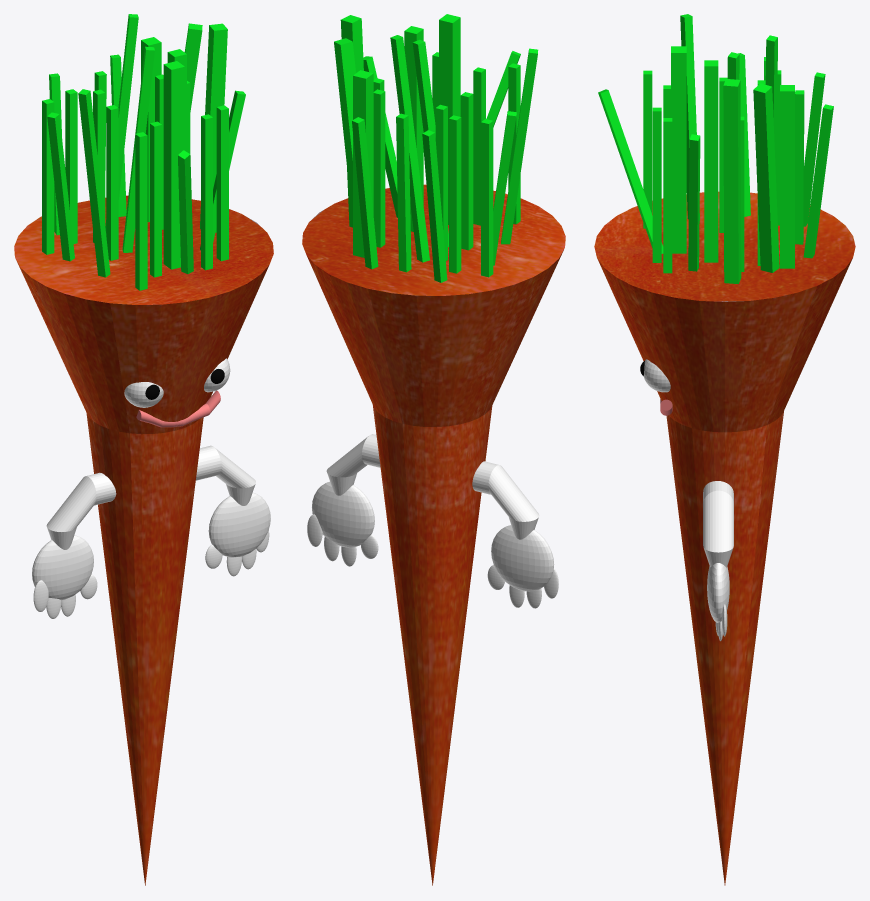
The model's file is marchewLV2_main.obj.
3 views of the same model, side by side, from view 1: azimuth 30°, elevation 25°; view 2: azimuth 150°, elevation 25°; view 3: azimuth 270°, elevation 25° (orthographic).
Visible parts, largest first — view 1: Cone, Cylinder.002, Cylinder.001, Cube.011_Cube.012, Cube.009_Cube.010, Cube.017_Cube.018, Cube.005_Cube.006, Cube.019_Cube.020, Cube.010_Cube.011, Cube_Cube.001, Cube.008_Cube.009, Cube.007_Cube.008 (+14 smaller); view 2: Cone, Cylinder.002, Cylinder.001, Cube.014_Cube.015, Cube.003_Cube.004, Cube.011_Cube.012, Cube.002_Cube.003, Cube.010_Cube.011, Cube.022_Cube.023, Cube.001_Cube.002, Cube.009_Cube.010, Cube.016_Cube.017 (+12 smaller); view 3: Cone, Cylinder.001, Cube.004_Cube.005, Cube.005_Cube.006, Cube.011_Cube.012, Cube.012_Cube.013, Cube.003_Cube.004, Cube.018_Cube.019, Cube.021_Cube.022, Cube.006_Cube.007, Cube.019_Cube.020, Cube.007_Cube.008 (+10 smaller).
Boxes of the visible parts, box(x1,y1,x2,y2) form: Cone: box(14, 195, 273, 885); Cylinder.002: box(32, 472, 116, 618); Cylinder.001: box(196, 445, 270, 576); Cube.011_Cube.012: box(163, 61, 184, 269); Cube.009_Cube.010: box(78, 89, 110, 277); Cube.017_Cube.018: box(135, 132, 147, 290); Cube.005_Cube.006: box(200, 23, 227, 232); Cube.019_Cube.020: box(216, 105, 228, 261); Cube.010_Cube.011: box(106, 105, 118, 260); Cube_Cube.001: box(47, 112, 74, 261); Cube.008_Cube.009: box(150, 121, 161, 277); Cube.007_Cube.008: box(201, 114, 212, 270); Cone: box(302, 184, 565, 885); Cylinder.002: box(472, 461, 558, 608); Cylinder.001: box(307, 434, 380, 566); Cube.014_Cube.015: box(390, 35, 429, 262); Cube.003_Cube.004: box(353, 70, 373, 257); Cube.011_Cube.012: box(439, 14, 460, 224); Cube.002_Cube.003: box(396, 113, 411, 272); Cube.010_Cube.011: box(460, 92, 473, 250); Cube.022_Cube.023: box(422, 130, 447, 282); Cube.001_Cube.002: box(449, 115, 461, 273); Cube.009_Cube.010: box(501, 48, 538, 244); Cube.016_Cube.017: box(481, 119, 493, 277); Cone: box(594, 191, 855, 885); Cylinder.001: box(703, 481, 733, 641); Cube.004_Cube.005: box(753, 83, 779, 272); Cube.005_Cube.006: box(723, 79, 741, 283); Cube.011_Cube.012: box(671, 46, 686, 253); Cube.012_Cube.013: box(704, 60, 718, 262); Cube.003_Cube.004: box(780, 85, 794, 268); Cube.018_Cube.019: box(598, 89, 663, 253); Cube.021_Cube.022: box(803, 104, 833, 258); Cube.006_Cube.007: box(688, 134, 700, 271); Cube.019_Cube.020: box(663, 118, 672, 273); Cube.007_Cube.008: box(652, 107, 661, 262).
Bounding box in the file's own units: 0.9673 × 3.26 × 0.9027.
Materials: 6 (6 with a texture image).
